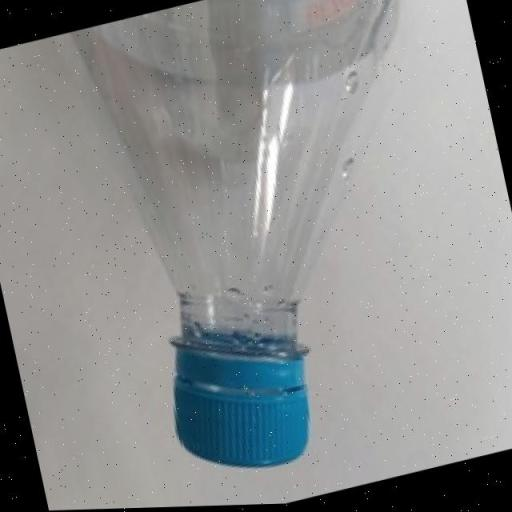plastic: (65, 0, 512, 494)
